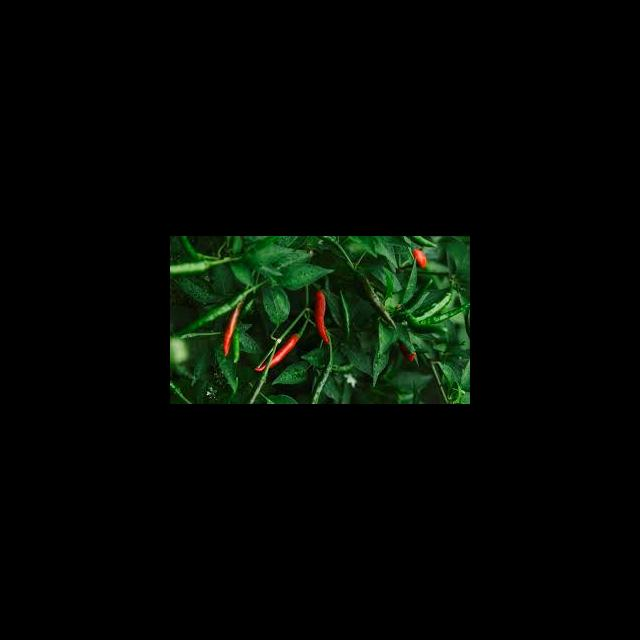chili_pepper: (171, 293, 248, 335), (256, 334, 300, 373), (222, 300, 243, 356), (315, 291, 330, 345), (310, 364, 330, 404), (339, 292, 351, 338), (413, 249, 428, 269)
